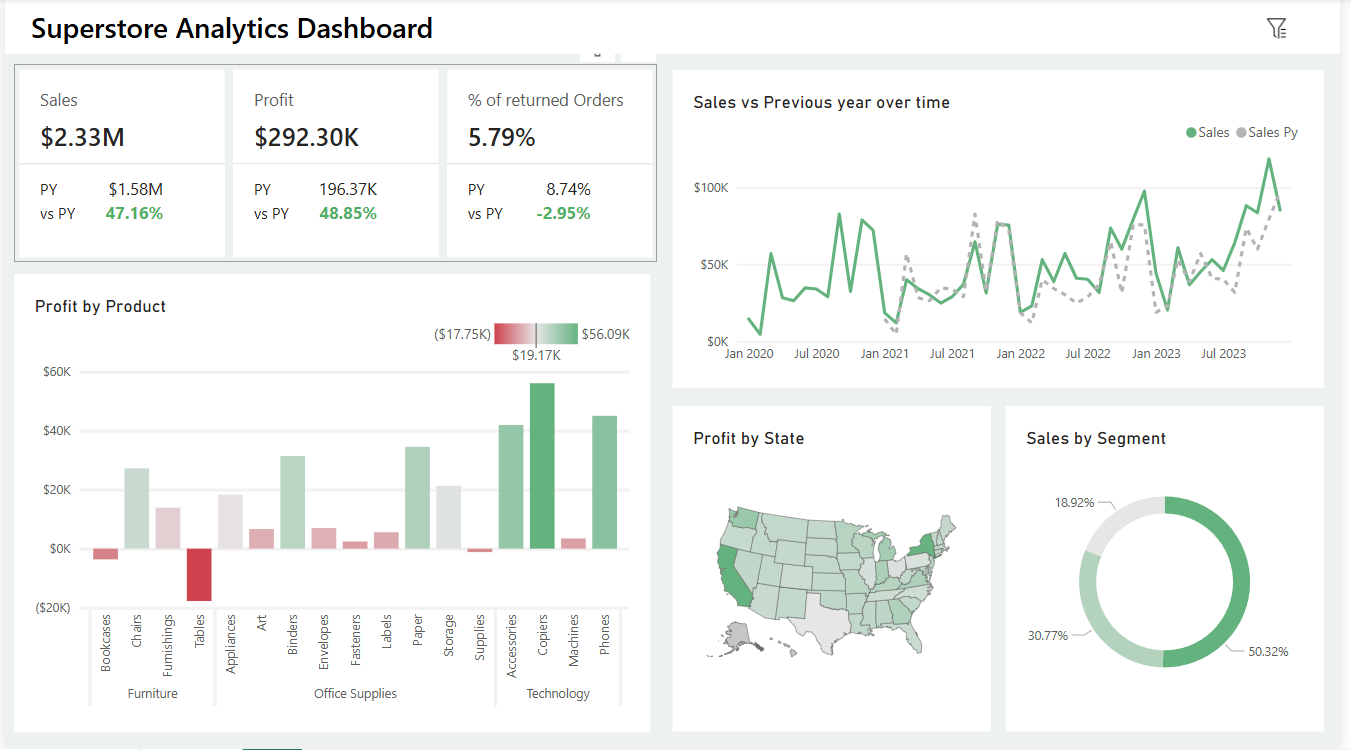

Layout of this report page (visuals, bound fields, positions):
{"tool":"powerbi","page":{"name":"Super Store","canvas":[1280,720],"ordinal":0},"visuals":[{"type":"cardVisual","fields":{"Data":["Measures for Dashboard.Sales","Measures for Dashboard.Profit","Measures for Dashboard.% of returned Orders"]},"box":[8.4,63.6,617,190],"z":0},{"type":"shape","box":[0,0,1280,53.4],"z":1000},{"type":"lineChart","title":"Sales vs Previous year over time","fields":{"Y":["Measures for Dashboard.Sales","Measures for Dashboard.Sales Py"],"Category":["Date Table.Start of month"]},"box":[639.6,69.5,624.6,304.7],"z":2000},{"type":"columnChart","title":"Profit by Product","fields":{"Category":["Orders.Category","Orders.Sub-Category"],"Y":["Measures for Dashboard.Profit"]},"box":[8.4,264.6,610.3,439.5],"z":3000},{"type":"shapeMap","title":"Profit by State","fields":{"Value":["Measures for Dashboard.Profit"],"Category":["Orders.State/Province"]},"box":[640,391.4,305,312.3],"z":4000},{"type":"donutChart","title":"Sales by Segment","fields":{"Category":["Orders.Segment"],"Y":["Measures for Dashboard.Sales"]},"box":[959.5,391.4,305.1,312.3],"z":5000},{"type":"image","box":[1193,4.2,50.2,49.4],"z":6000}]}

Visuals, with their boxes in screenshot pixels (x1, y1, x2, y2), scaled from the page's 1280x720 canvas onto the 1351x750 screenshot:
cardVisual - Measures for Dashboard.Sales x Measures for Dashboard.Profit: [left=9, top=66, right=660, bottom=264]
shape: [left=0, top=0, right=1350, bottom=56]
"Sales vs Previous year over time" lineChart: [left=675, top=72, right=1334, bottom=390]
"Profit by Product" columnChart: [left=9, top=276, right=653, bottom=733]
"Profit by State" shapeMap: [left=676, top=408, right=997, bottom=733]
"Sales by Segment" donutChart: [left=1013, top=408, right=1335, bottom=733]
image: [left=1259, top=4, right=1312, bottom=56]
